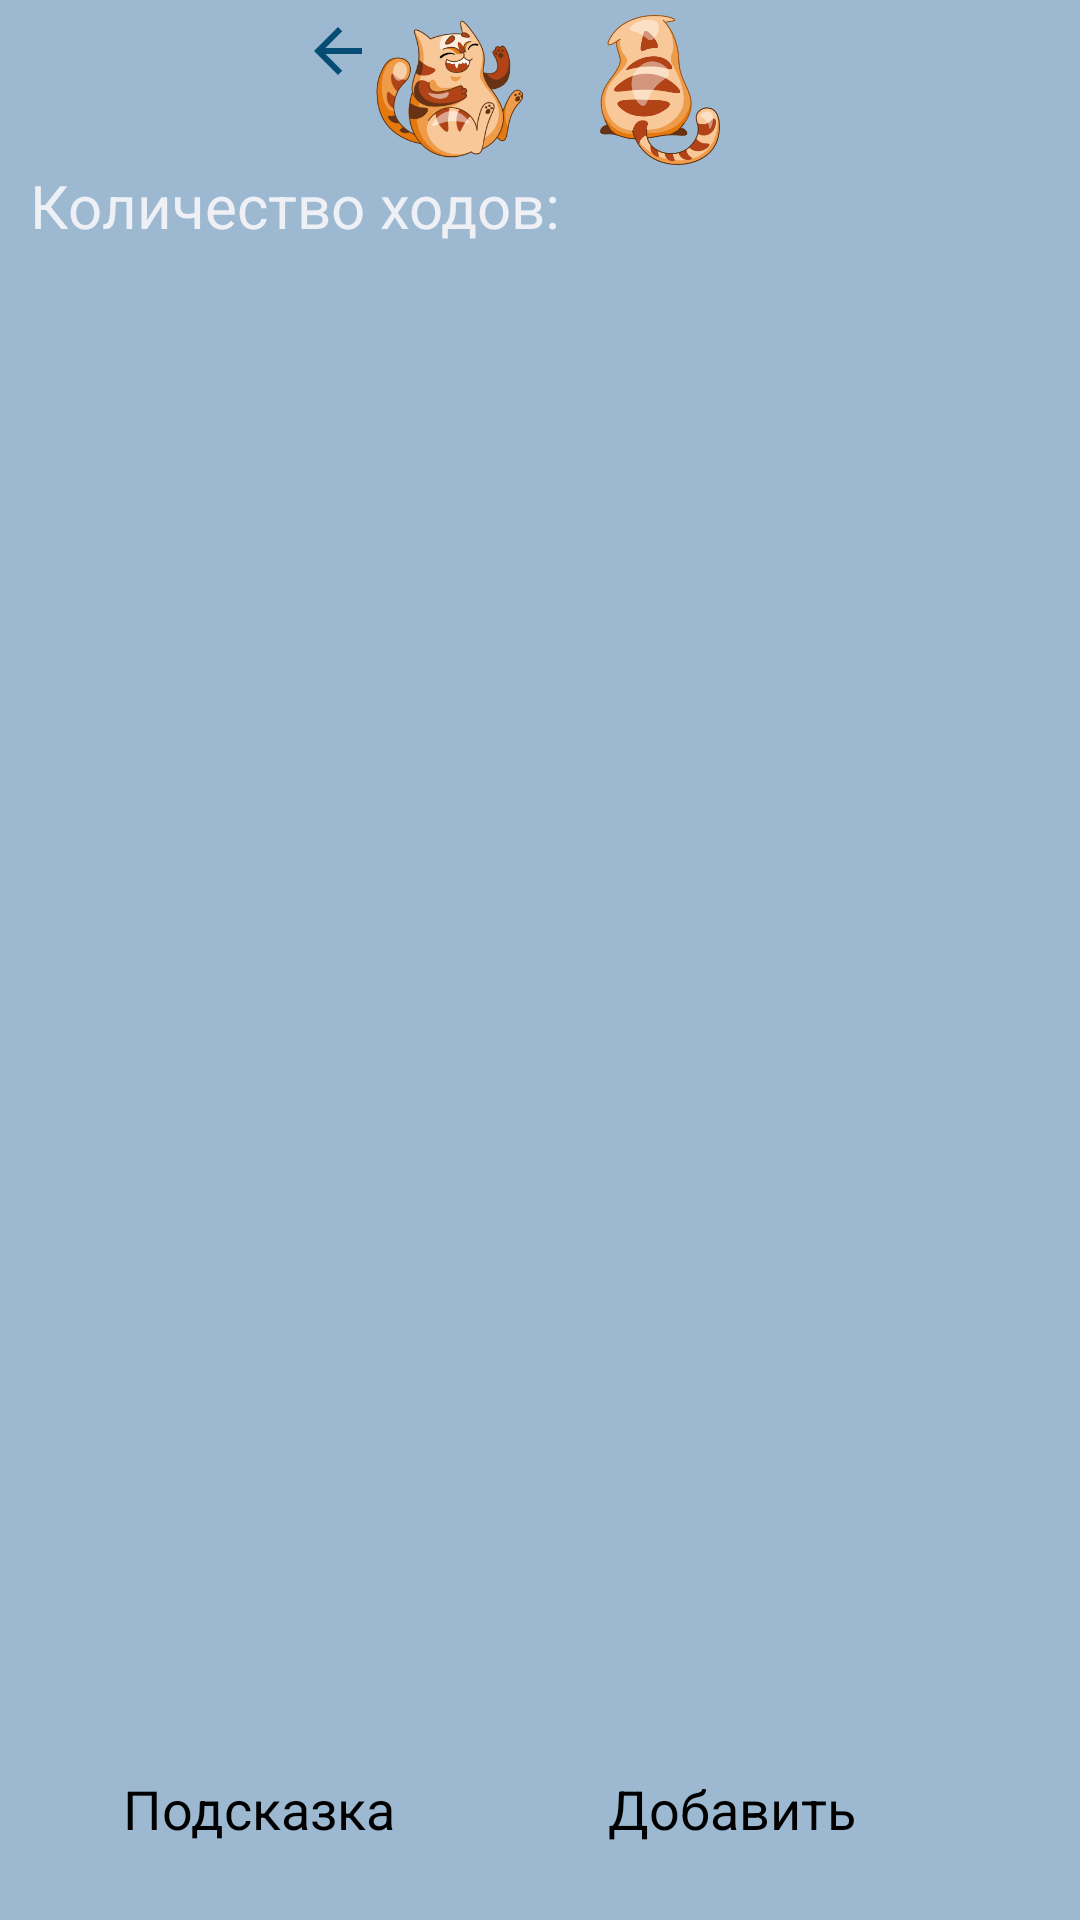

Named icons in this screenshot (1080px×1920px) and their centers, (x,y):
arrow back: (338,51)
